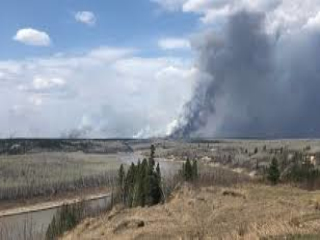smoke: (155, 19, 255, 137)
